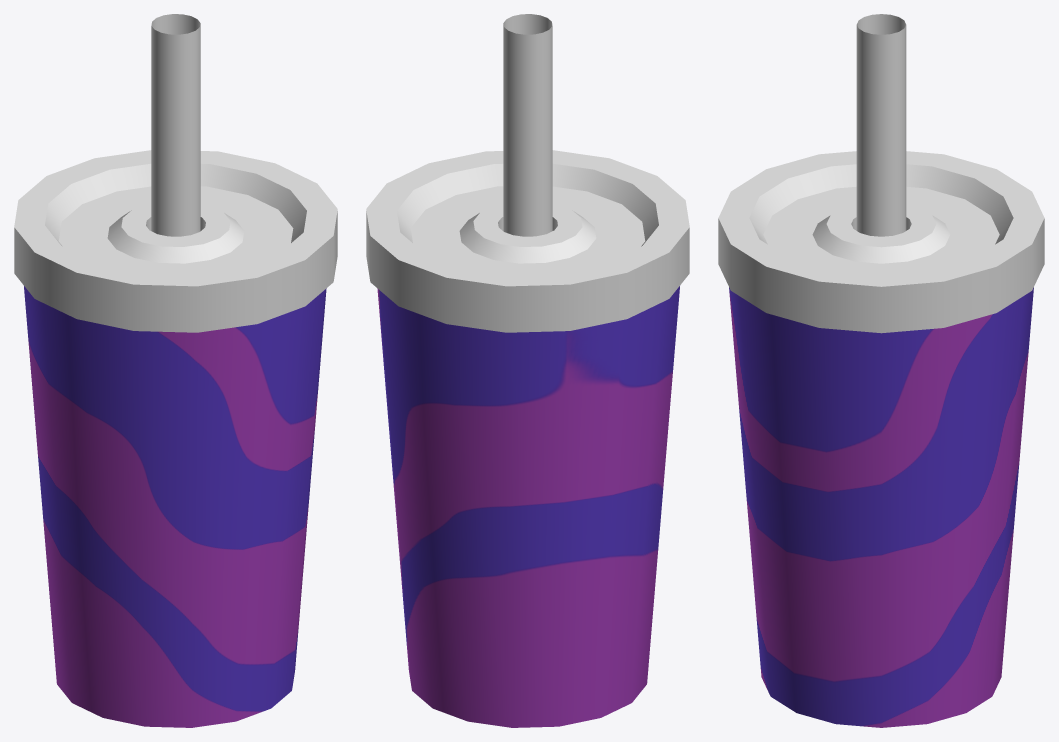
Rendered from Cap.fbx.
The picture shows the model from 3 angles, left to right: view 1: azimuth 30°, elevation 25°; view 2: azimuth 150°, elevation 25°; view 3: azimuth 270°, elevation 25°; orthographic projection.
Visible parts, largest first — view 1: Cup_3; view 2: Cup_3; view 3: Cup_3.
Part boxes in pixels (x1,y1,x2,y2): Cup_3: (14, 14, 337, 727); Cup_3: (366, 14, 689, 727); Cup_3: (718, 14, 1044, 727).
Bounding box in the file's own units: 182 × 402 × 182.
